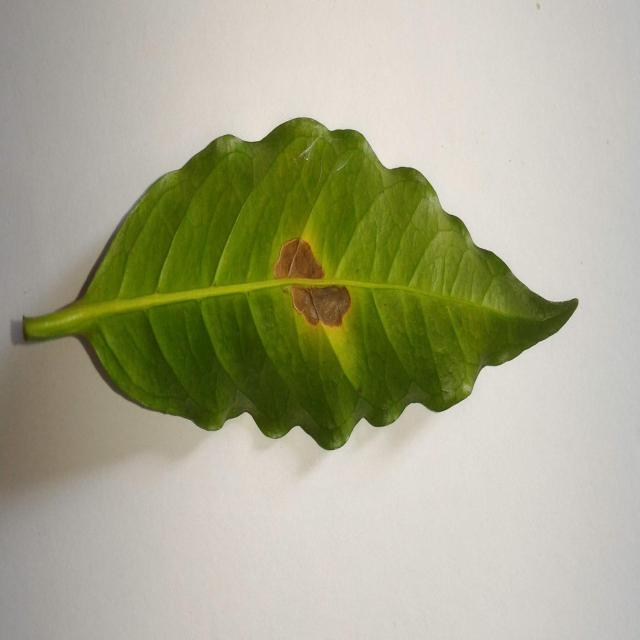Plaga-Minador: (18, 118, 579, 454)
